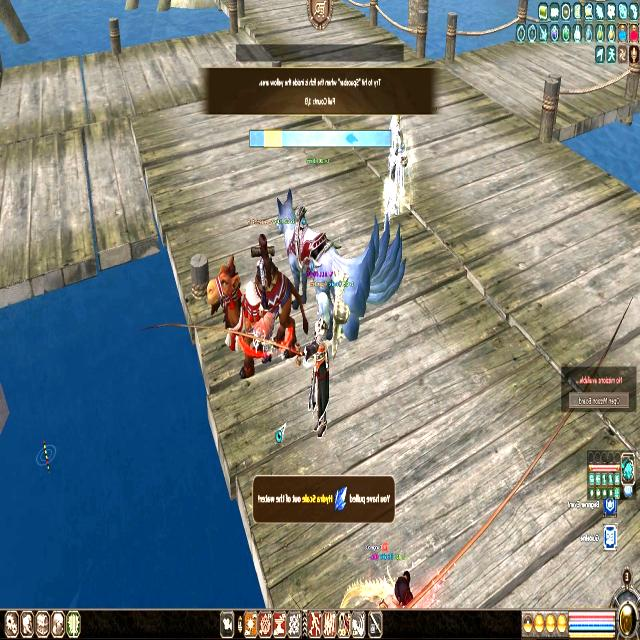fishes: (345, 131, 359, 145)
